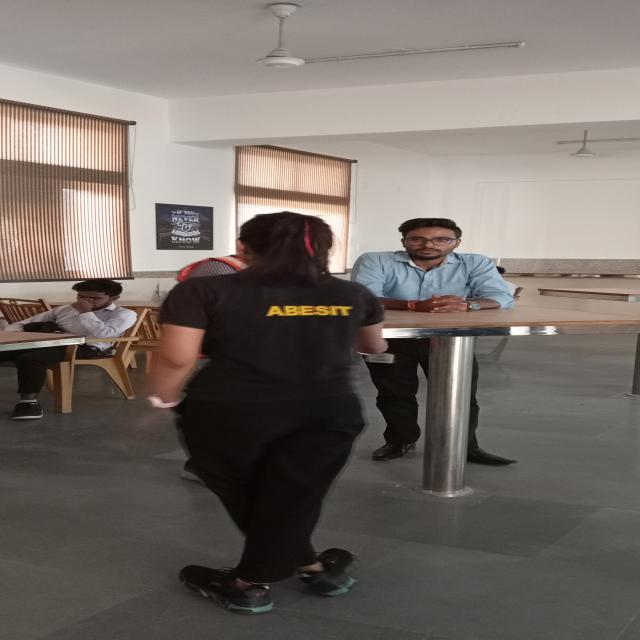unsafe: (142, 210, 386, 552), (352, 217, 522, 469), (7, 279, 138, 421)
